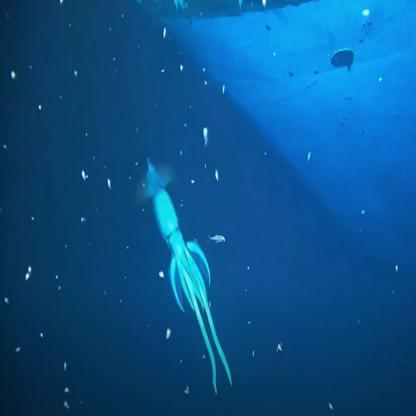colossal_squid: (119, 146, 237, 407)
